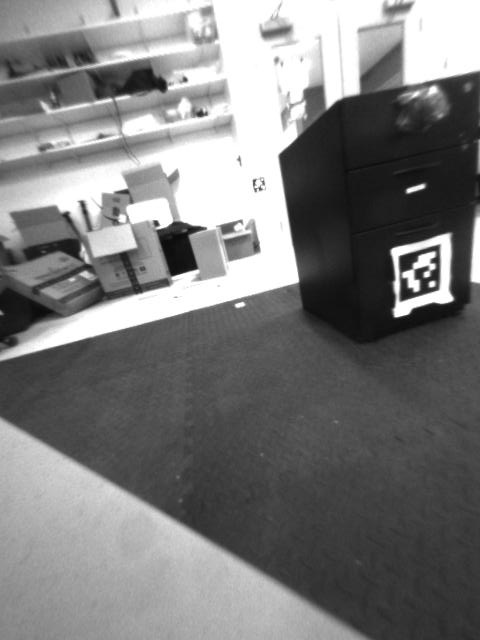drawer: (393, 88, 453, 138)
